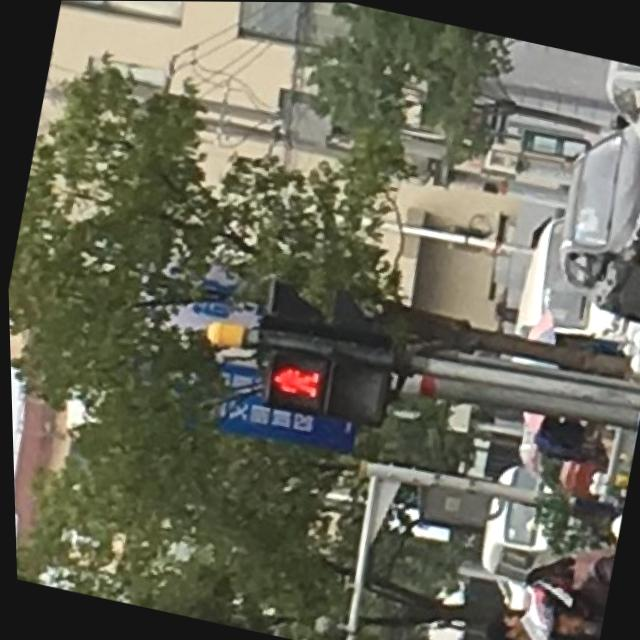red_light: (260, 348, 324, 413)
